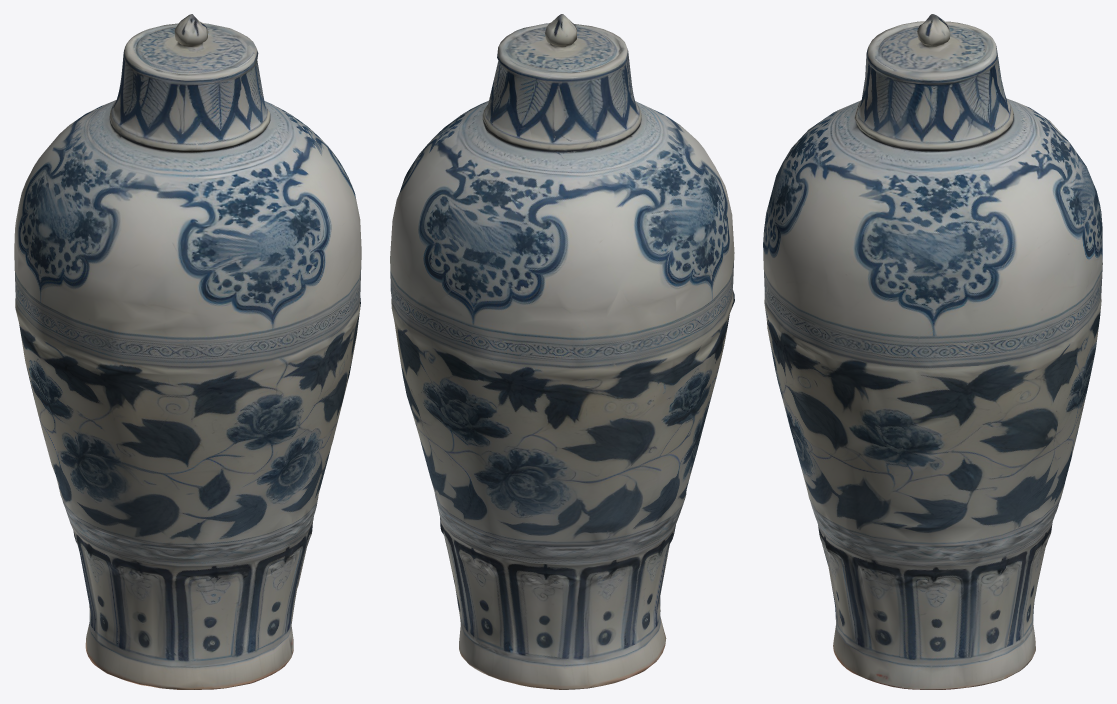
3 renders of one model, left to right at view 1: azimuth 30°, elevation 25°; view 2: azimuth 150°, elevation 25°; view 3: azimuth 270°, elevation 25°, orthographic.
Visible parts, largest first — view 1: node_0; view 2: node_0; view 3: node_0.
Boxes of the visible parts, x1,y1,x2,y2 form: node_0: (14, 14, 361, 689); node_0: (390, 14, 734, 689); node_0: (763, 14, 1102, 689).
Bounding box in the file's own units: 0.5674 × 1.15 × 0.5595.
1 material, 1 textured.
